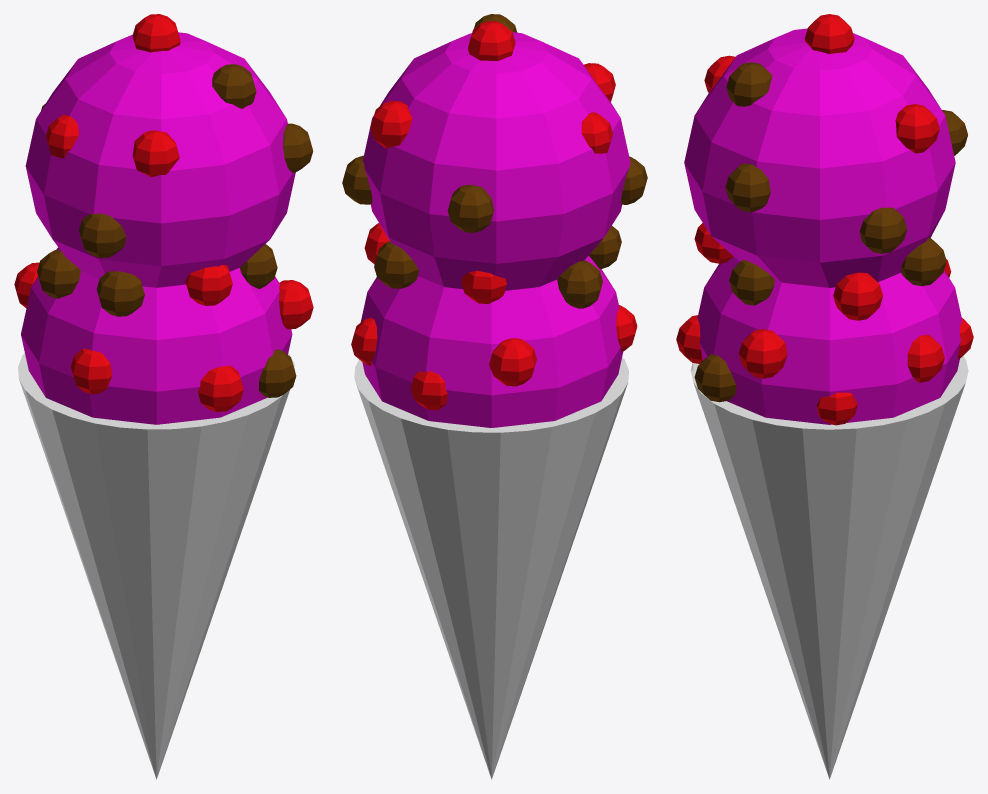
File: icecreamcone.fbx
3 renders of one model, left to right at view 1: azimuth 30°, elevation 25°; view 2: azimuth 150°, elevation 25°; view 3: azimuth 270°, elevation 25°, orthographic.
Visible parts, largest first — view 1: Cone, Sphere.002, Sphere.009, Sphere.018, Sphere.011, Sphere.001, Sphere.005, Sphere.008, Sphere.016, Sphere, Sphere.017, Sphere.022 (+4 smaller); view 2: Cone, Sphere.019, Sphere.014, Sphere.001, Sphere, Sphere.013, Sphere.006, Sphere.007, Sphere.020, Sphere.015, Sphere.012, Sphere.023 (+5 smaller); view 3: Cone, Sphere.017, Sphere.003, Sphere.015, Sphere.010, Sphere.013, Sphere, Sphere.006, Sphere.008, Sphere.004, Sphere.022, Sphere.023 (+5 smaller).
Boxes of the visible parts, box(x1,y1,x2,y2) form: Cone: box(18, 32, 295, 779); Sphere.002: box(96, 271, 144, 316); Sphere.009: box(132, 130, 179, 176); Sphere.018: box(198, 365, 243, 411); Sphere.011: box(79, 213, 126, 257); Sphere.001: box(37, 250, 80, 298); Sphere.005: box(185, 265, 232, 305); Sphere.008: box(212, 64, 256, 108); Sphere.016: box(70, 348, 111, 394); Sphere: box(132, 14, 180, 52); Sphere.017: box(279, 280, 313, 329); Sphere.022: box(259, 349, 296, 397); Cone: box(354, 32, 630, 779); Sphere.019: box(489, 338, 536, 386); Sphere.014: box(447, 185, 493, 232); Sphere.001: box(557, 260, 602, 308); Sphere: box(467, 21, 515, 61); Sphere.013: box(370, 101, 412, 148); Sphere.006: box(374, 241, 418, 288); Sphere.007: box(461, 270, 506, 303); Sphere.020: box(410, 371, 447, 410); Sphere.015: box(342, 155, 372, 204); Sphere.012: box(581, 112, 612, 153); Sphere.023: box(351, 317, 377, 365); Cone: box(684, 28, 968, 779); Sphere.017: box(738, 329, 787, 378); Sphere.003: box(833, 272, 882, 320); Sphere.015: box(859, 207, 907, 253); Sphere.010: box(725, 163, 770, 212); Sphere.013: box(895, 104, 939, 153); Sphere: box(804, 14, 854, 54); Sphere.006: box(901, 237, 946, 286); Sphere.008: box(726, 62, 772, 106); Sphere.004: box(729, 259, 774, 305); Sphere.022: box(694, 354, 736, 402); Sphere.023: box(907, 335, 944, 382).
Size of the model in its own units: 94.97 by 286 by 101.
